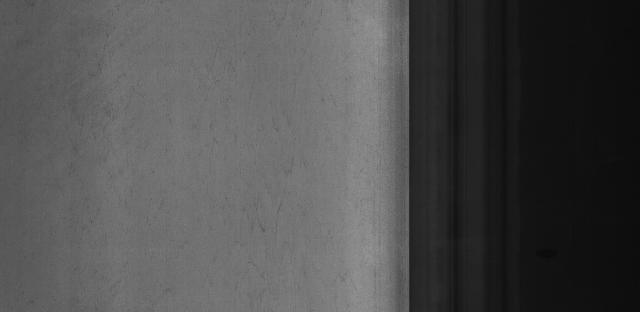silk_spot: (230, 110, 306, 265)
